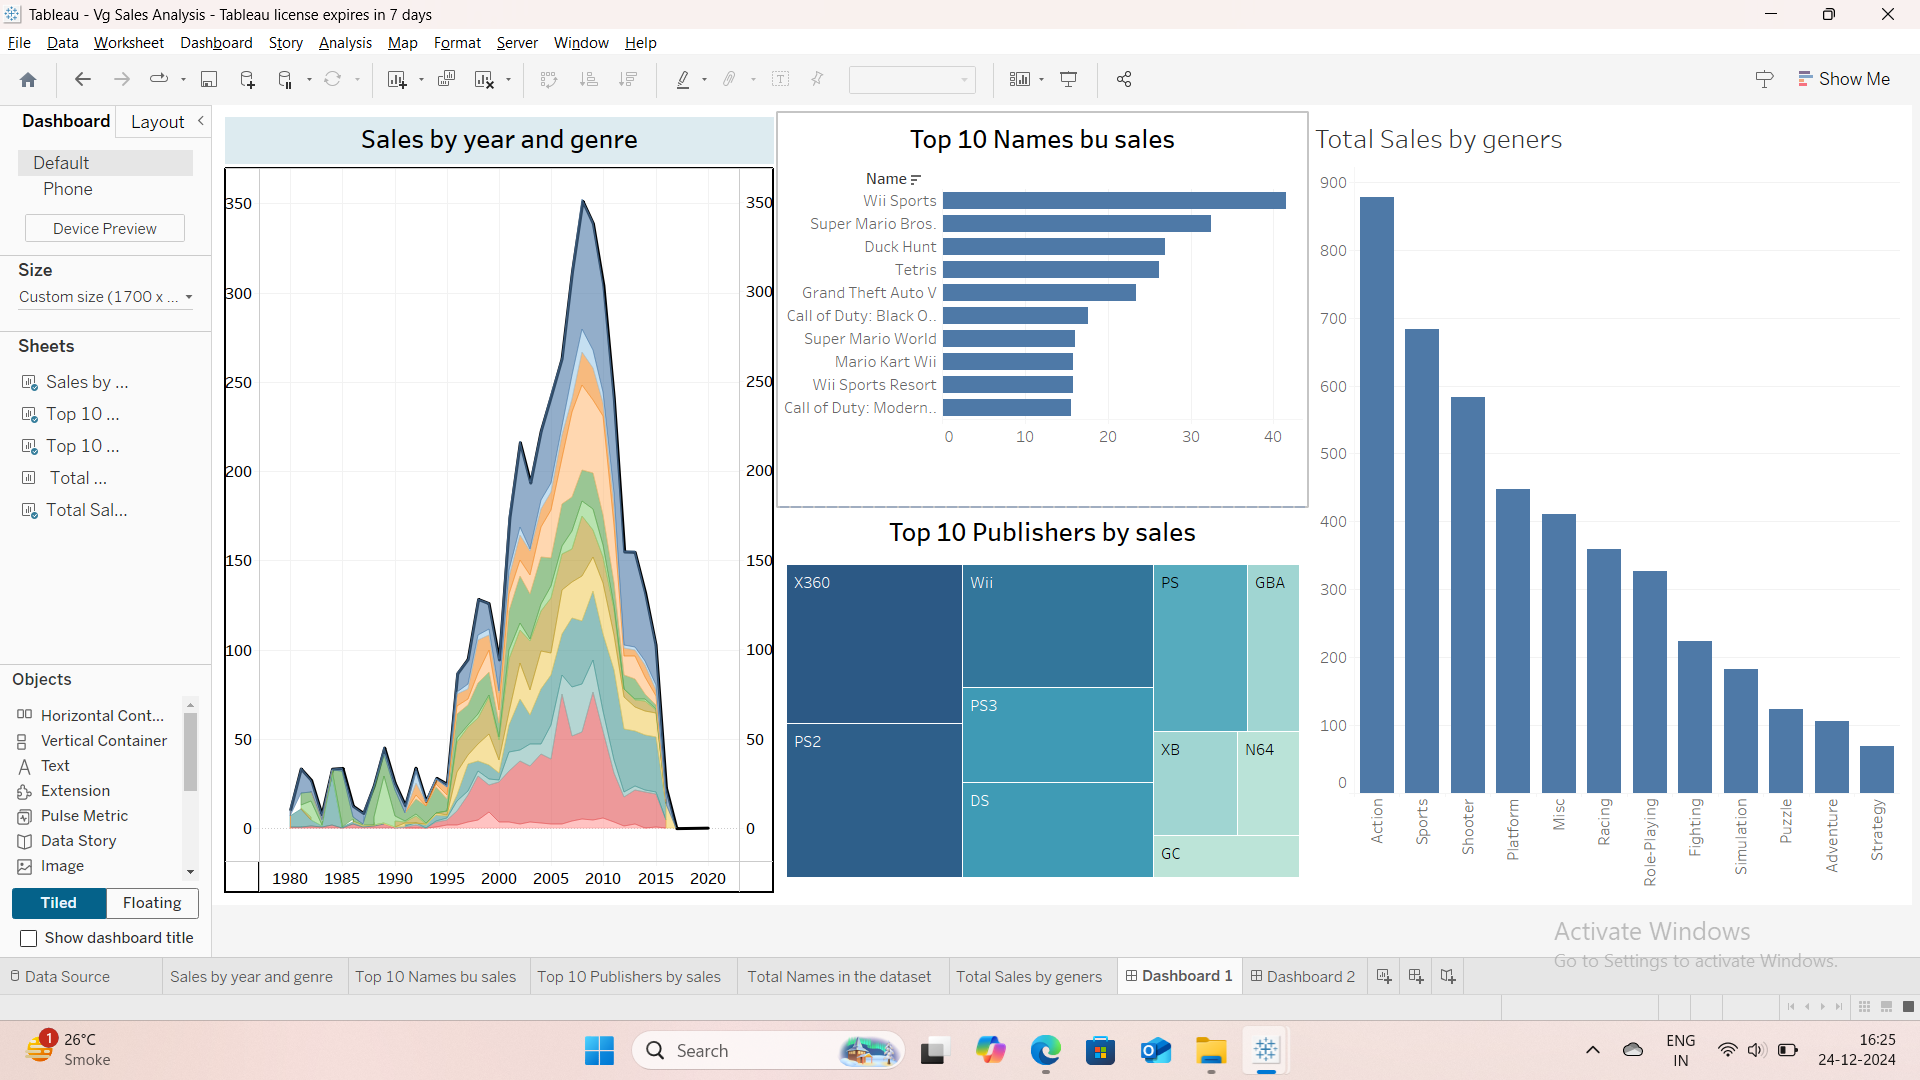

The page's visual inventory and layout, read from the dashboard file:
{"tool":"tableau","page":{"name":"Dashboard 1","canvas":[1700,800],"ordinal":0},"visuals":[{"type":"worksheet","title":"Sales by year and genre","mark":"Automatic","rows":["Calculation_719731543768686592","Calculation_719731543768686592"],"cols":["Year"],"box":[8,8,558,784]},{"type":"worksheet","title":"Top 10 Names bu sales","mark":"Automatic","rows":["Name"],"cols":["Calculation_719731543768686592"],"box":[566,8,529,393]},{"type":"worksheet","title":"Total Sales by geners","mark":"Automatic","rows":["Calculation_719731543768686592"],"cols":["Genre"],"box":[1095,8,597,784]},{"type":"worksheet","title":"Top 10 Publishers by sales","mark":"Automatic","box":[566,401,529,391]}]}

Visuals, with their boxes on the page's 1700x800 design canvas (x1, y1, x2, y2). These are canvas units, not pixel positions in the 1920x1080 screenshot, which may show the page scaled, cropped or inside an application window:
"Sales by year and genre" worksheet: <bbox>8, 8, 566, 792</bbox>
"Top 10 Names bu sales" worksheet: <bbox>566, 8, 1095, 401</bbox>
"Total Sales by geners" worksheet: <bbox>1095, 8, 1692, 792</bbox>
"Top 10 Publishers by sales" worksheet: <bbox>566, 401, 1095, 792</bbox>
